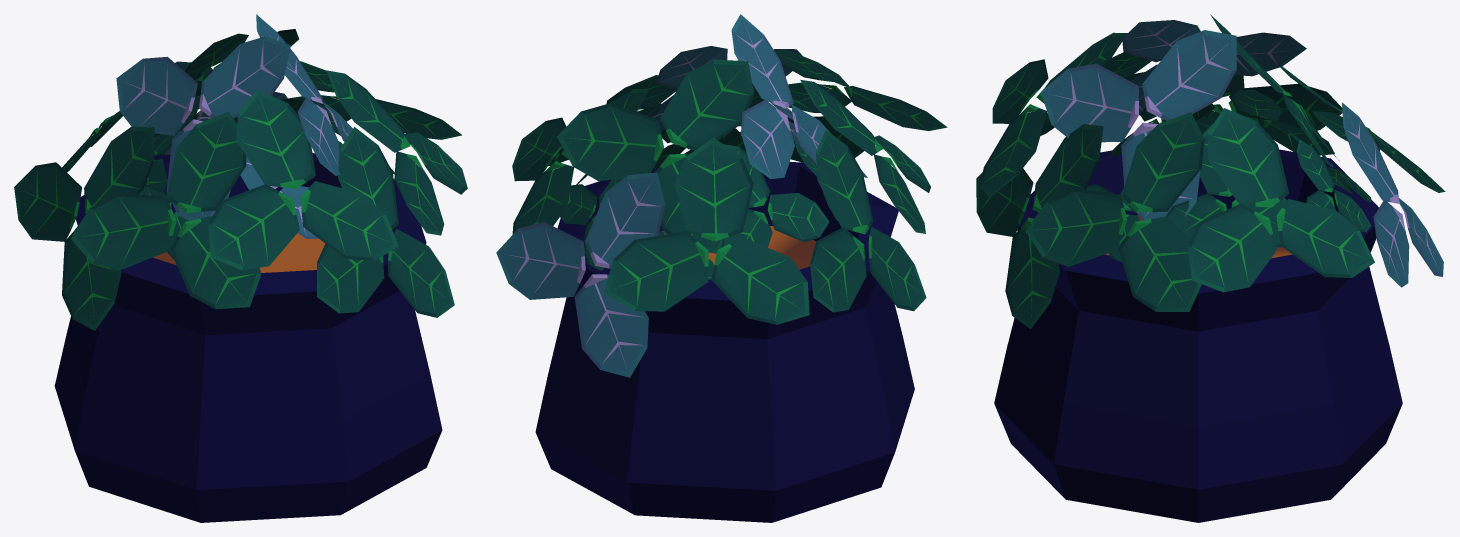
File: Garden_FloorPlanter_Midnight.fbx
The picture shows the model from 3 angles, left to right: view 1: azimuth 30°, elevation 25°; view 2: azimuth 150°, elevation 25°; view 3: azimuth 270°, elevation 25°; orthographic projection. The views are drawn at different scales.
Visible parts, largest first — view 1: Cylinder.121; view 2: Cylinder.121; view 3: Cylinder.121.
Boxes of the visible parts, left/top/right/bottom form: Cylinder.121: left=14, top=14, right=467, bottom=522; Cylinder.121: left=496, top=14, right=947, bottom=522; Cylinder.121: left=976, top=14, right=1445, bottom=522.
Size of the model in its own units: 48.63 by 49.17 by 48.88.
